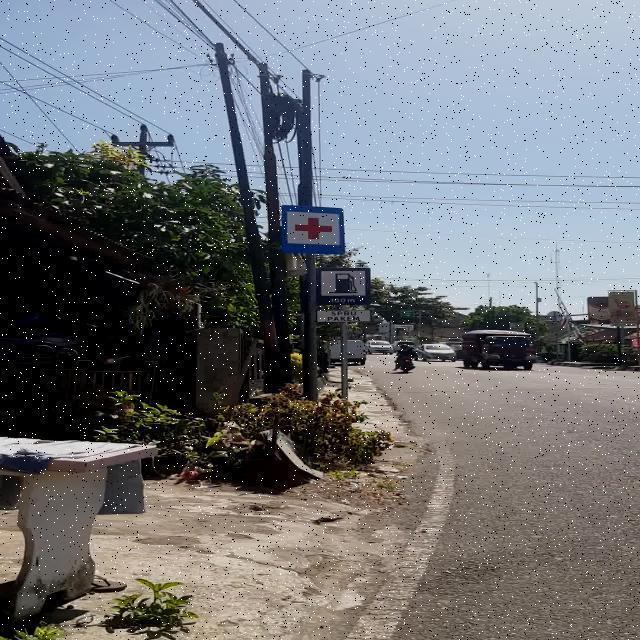Balai Pertolongan Pertama: (282, 205, 344, 254)
Pom Bensin: (316, 268, 370, 304)
